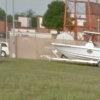Boat: (49, 31, 100, 90)
